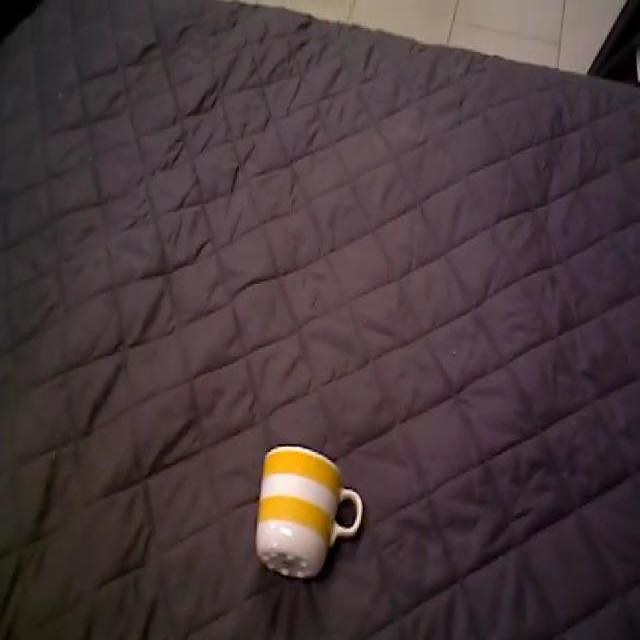cup: (254, 442, 368, 582)
